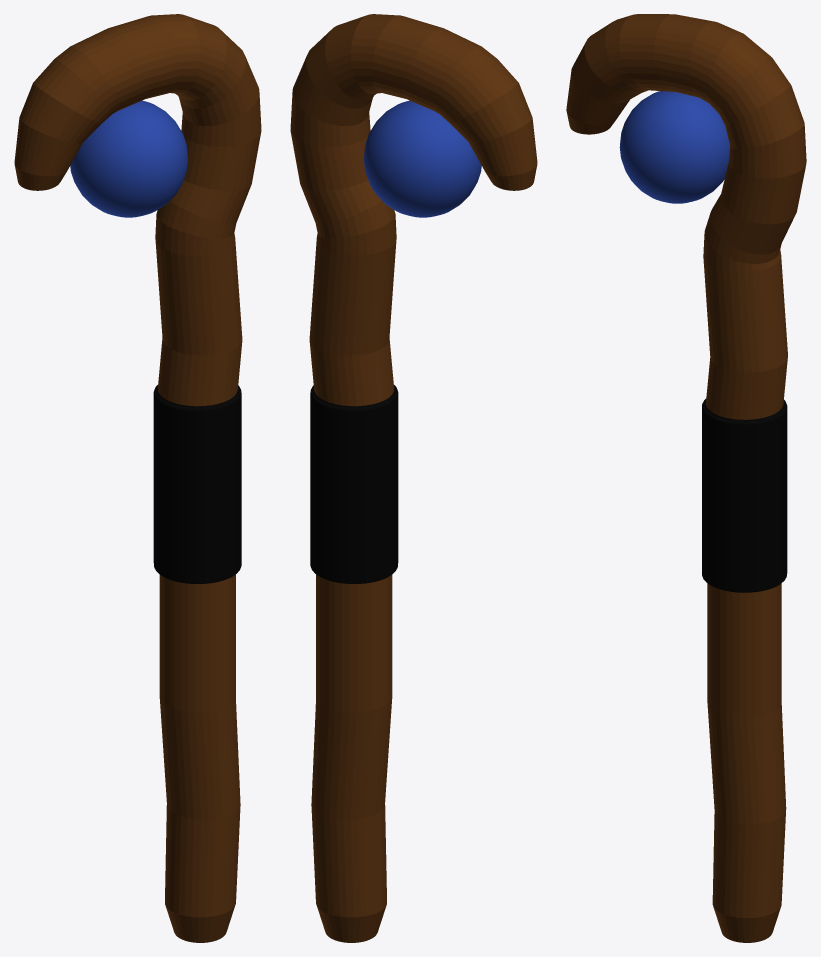
File: Cajado.fbx
3 renders of one model, left to right at view 1: azimuth 30°, elevation 25°; view 2: azimuth 150°, elevation 25°; view 3: azimuth 330°, elevation 25°, orthographic. The views are drawn at different scales.
Parts seen in each view (by area): view 1: Cylinder, Sphere; view 2: Cylinder, Sphere; view 3: Cylinder, Sphere.
Part boxes in pixels (x1,y1,x2,y2): Cylinder: [14, 14, 261, 942]; Sphere: [70, 100, 187, 217]; Cylinder: [290, 14, 537, 942]; Sphere: [364, 100, 481, 217]; Cylinder: [566, 14, 806, 942]; Sphere: [619, 91, 729, 203].
Size of the model in its own units: 121 by 448 by 52.28.
